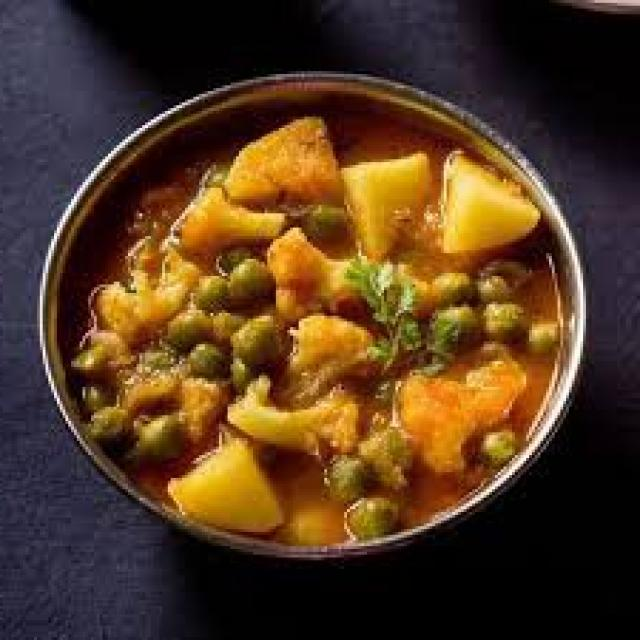Aloo Matar: (104, 122, 537, 524)
